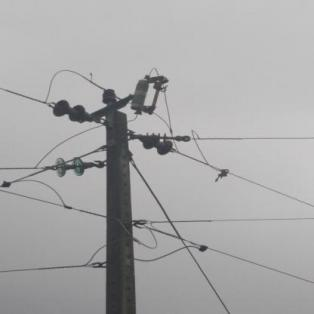Poste: (92, 84, 144, 314)
